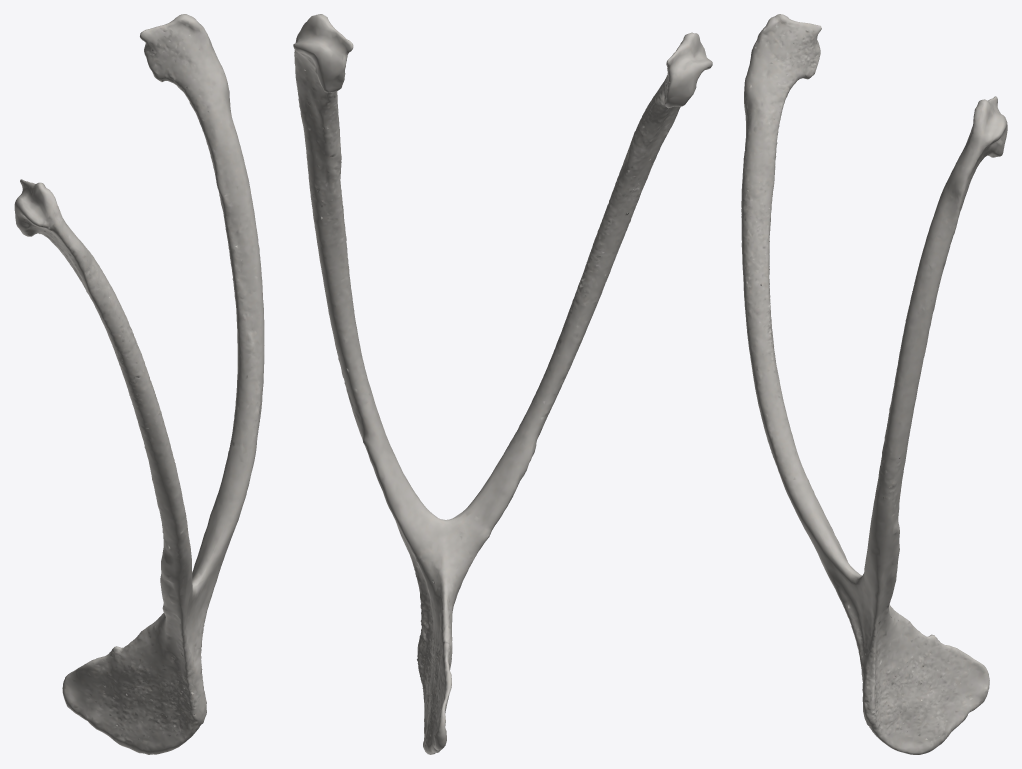
3 renders of one model, left to right at view 1: azimuth 30°, elevation 25°; view 2: azimuth 150°, elevation 25°; view 3: azimuth 270°, elevation 25°, orthographic. The views are drawn at different scales.
Parts seen in each view (by area): view 1: Clavicula_Huhn.001; view 2: Clavicula_Huhn.001; view 3: Clavicula_Huhn.001.
Part boxes in pixels (x1,y1,x2,y2): Clavicula_Huhn.001: (14,14,264,754); Clavicula_Huhn.001: (293,14,712,754); Clavicula_Huhn.001: (741,14,1007,754).
Bounding box in the file's own units: 3259 × 7209 × 2531.
Materials: 1 (1 with a texture image).
